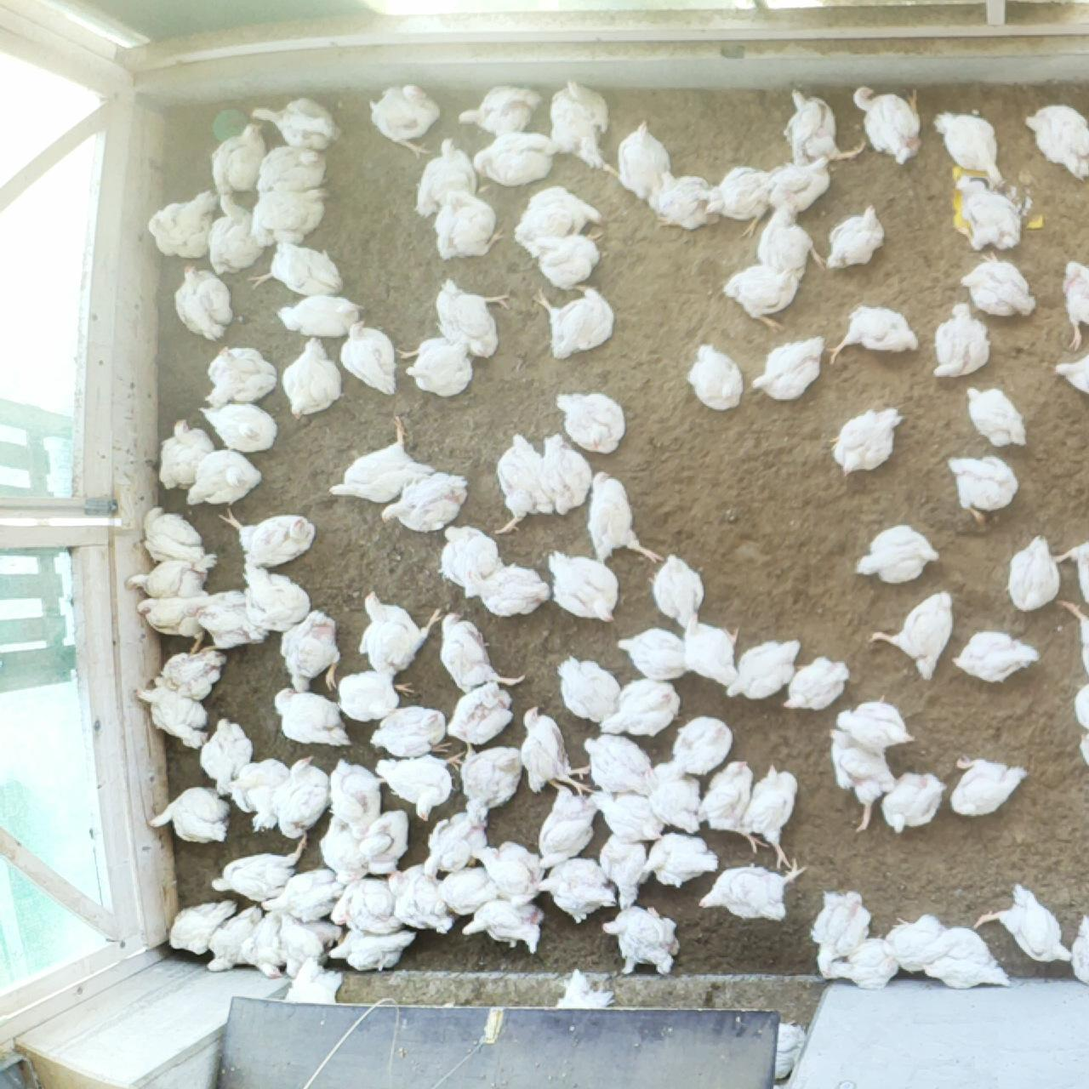chicken: (326, 417, 439, 512), (353, 589, 444, 683), (868, 586, 954, 685), (580, 468, 663, 568), (974, 883, 1074, 964), (697, 855, 813, 921), (368, 747, 467, 824), (825, 728, 897, 832), (436, 607, 525, 691), (515, 180, 606, 260), (696, 758, 770, 856), (518, 706, 595, 800), (490, 433, 559, 537), (543, 83, 621, 175), (210, 831, 312, 901), (740, 762, 807, 868), (216, 499, 317, 568), (434, 277, 516, 361), (533, 282, 616, 362), (780, 88, 864, 167), (851, 81, 928, 165), (597, 903, 680, 979), (533, 774, 596, 874), (543, 547, 624, 624), (177, 587, 270, 654), (919, 926, 1010, 994), (944, 450, 1023, 528), (827, 302, 919, 368), (427, 185, 506, 261), (324, 868, 406, 941), (248, 182, 333, 252), (536, 855, 621, 925), (278, 606, 344, 696), (367, 82, 445, 158), (147, 185, 223, 263), (251, 238, 345, 301), (415, 131, 481, 220), (378, 469, 471, 532), (928, 301, 1002, 380), (810, 885, 875, 974), (133, 582, 212, 655), (458, 737, 523, 825), (952, 177, 1026, 254), (721, 260, 798, 334), (960, 250, 1041, 320), (120, 550, 217, 608), (381, 862, 457, 936), (605, 119, 675, 199), (750, 336, 831, 405), (581, 729, 662, 798), (755, 148, 831, 221), (934, 110, 1006, 187), (139, 504, 218, 574), (199, 343, 279, 412), (270, 684, 352, 751), (703, 156, 769, 239), (235, 562, 312, 633), (153, 413, 218, 497), (725, 634, 804, 703), (950, 753, 1030, 821), (247, 97, 344, 153), (273, 755, 334, 844), (468, 838, 549, 905), (454, 83, 540, 146), (555, 388, 633, 457), (396, 329, 480, 393), (147, 784, 230, 848), (458, 563, 551, 620), (640, 825, 719, 892), (201, 194, 267, 274), (583, 783, 664, 848), (754, 203, 825, 277), (282, 335, 343, 421), (179, 445, 265, 506), (434, 524, 500, 603), (226, 754, 292, 833), (597, 678, 681, 740), (326, 756, 391, 836), (819, 201, 887, 277), (951, 627, 1041, 684), (261, 865, 345, 926), (645, 756, 709, 836), (831, 406, 902, 478), (1023, 105, 1089, 182), (205, 123, 271, 200), (324, 922, 421, 974), (274, 907, 343, 980), (172, 261, 234, 342), (855, 525, 941, 583), (195, 401, 284, 457), (444, 676, 513, 748), (537, 429, 594, 516), (461, 895, 548, 952), (597, 828, 656, 912), (198, 901, 264, 976), (1005, 533, 1065, 615), (686, 338, 749, 416), (420, 806, 489, 877), (648, 549, 708, 630), (370, 705, 453, 763), (875, 911, 949, 976), (468, 130, 555, 185), (133, 685, 210, 747), (959, 383, 1031, 449), (252, 139, 329, 200), (556, 655, 624, 724), (664, 713, 736, 778), (681, 613, 740, 692), (337, 319, 398, 395), (273, 293, 366, 342), (147, 639, 223, 698), (647, 168, 718, 231), (832, 698, 915, 751), (531, 229, 603, 290), (162, 895, 236, 954), (879, 773, 949, 835), (315, 812, 372, 888), (615, 627, 691, 683), (336, 669, 414, 722), (825, 937, 900, 992), (198, 716, 248, 798), (781, 654, 852, 711), (436, 858, 507, 915), (356, 808, 411, 878), (238, 908, 290, 978), (1052, 592, 1089, 680), (286, 956, 345, 1008), (1060, 257, 1089, 355), (770, 1016, 809, 1086), (557, 965, 616, 1011), (1052, 534, 1089, 601), (1062, 911, 1089, 986), (1051, 344, 1089, 395)
